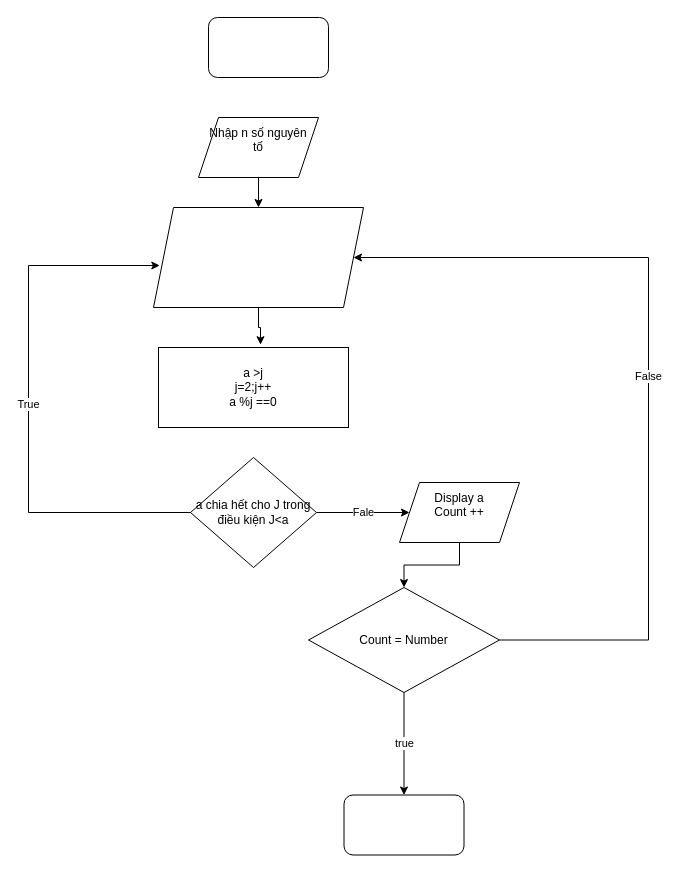
This 679x873 diagram has some shape labels left out. The box of each missing label's shape, as (x1, y1, x2, y2) in pixels:
Begin: (208, 16, 328, 78)
Count < n a>=2 a là số nguyên tố a++: (152, 206, 364, 308)
End: (343, 794, 464, 855)
